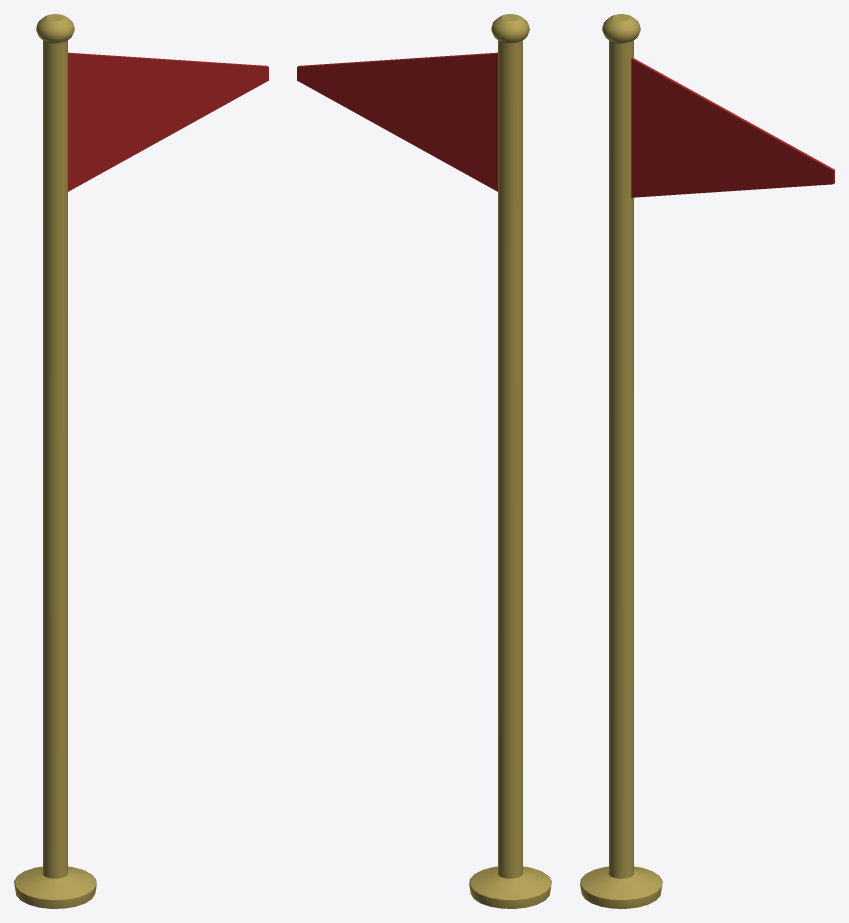
The model's file is Main_Flag.fbx.
3 renders of one model, left to right at view 1: azimuth 30°, elevation 25°; view 2: azimuth 150°, elevation 25°; view 3: azimuth 330°, elevation 25°, orthographic.
Visible parts, largest first — view 1: Pole, Flag; view 2: Pole, Flag; view 3: Pole, Flag.
Boxes of the visible parts, x1,y1,x2,y2 form: Pole: [14, 14, 96, 908]; Flag: [68, 52, 268, 191]; Pole: [469, 14, 551, 908]; Flag: [297, 52, 497, 191]; Pole: [580, 14, 662, 908]; Flag: [631, 58, 834, 197].
Bounding box in the file's own units: 19.69 × 66.19 × 5.7.
